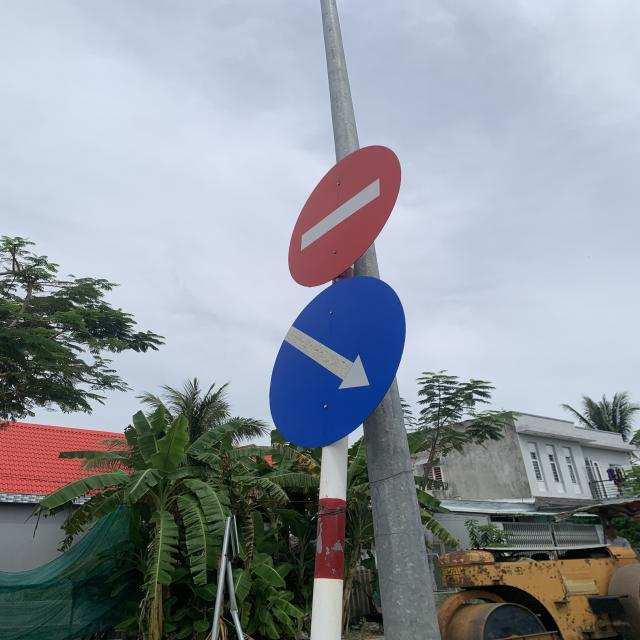Cam_Di_Nguoc_Chieu: (288, 146, 402, 285)
Chi_Huong_Di_Phai: (270, 277, 406, 445)
